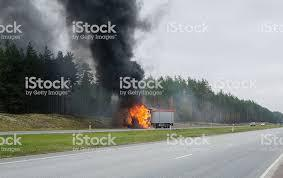fire: (118, 97, 158, 128)
